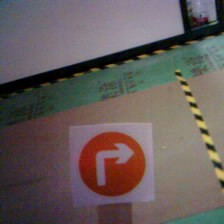right: (71, 128, 155, 204)
